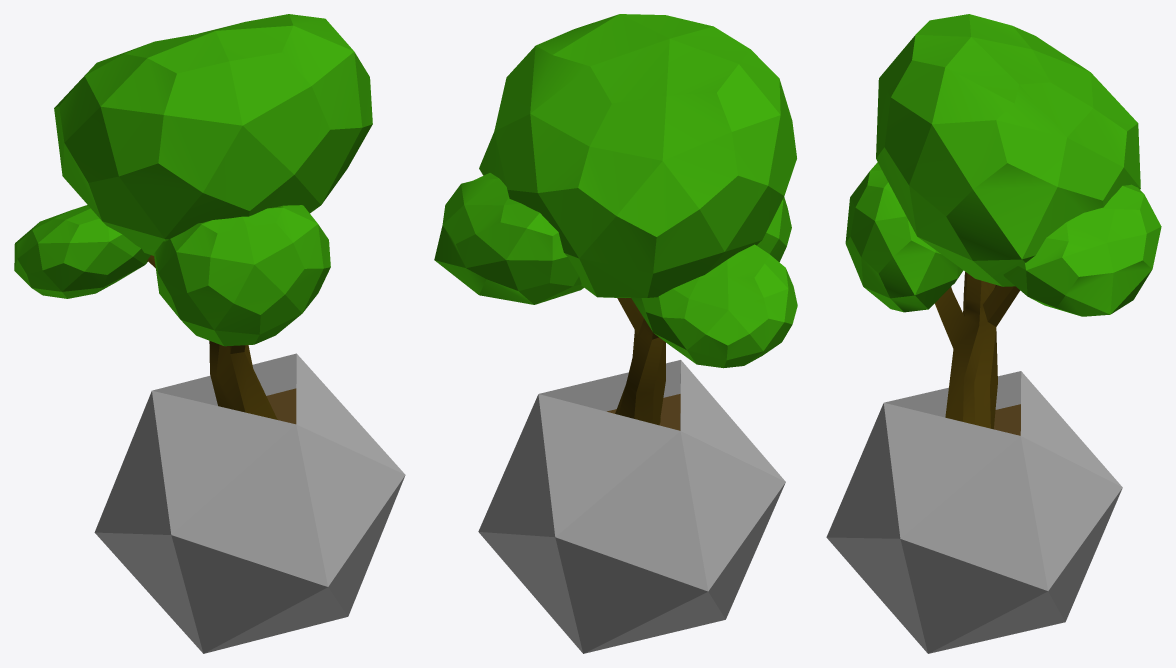
The model's file is Planter3.fbx.
3 views of the same model, side by side, from view 1: azimuth 30°, elevation 25°; view 2: azimuth 150°, elevation 25°; view 3: azimuth 270°, elevation 25° (orthographic). The views are drawn at different scales.
Visible parts, largest first — view 1: Plant9; view 2: Plant9; view 3: Plant9.
Part boxes in pixels (<box>): Plant9: <box>14,14,405,653</box>; Plant9: <box>434,14,797,653</box>; Plant9: <box>826,14,1161,653</box>.
Size of the model in its own units: 1.4 by 2.41 by 1.29.
